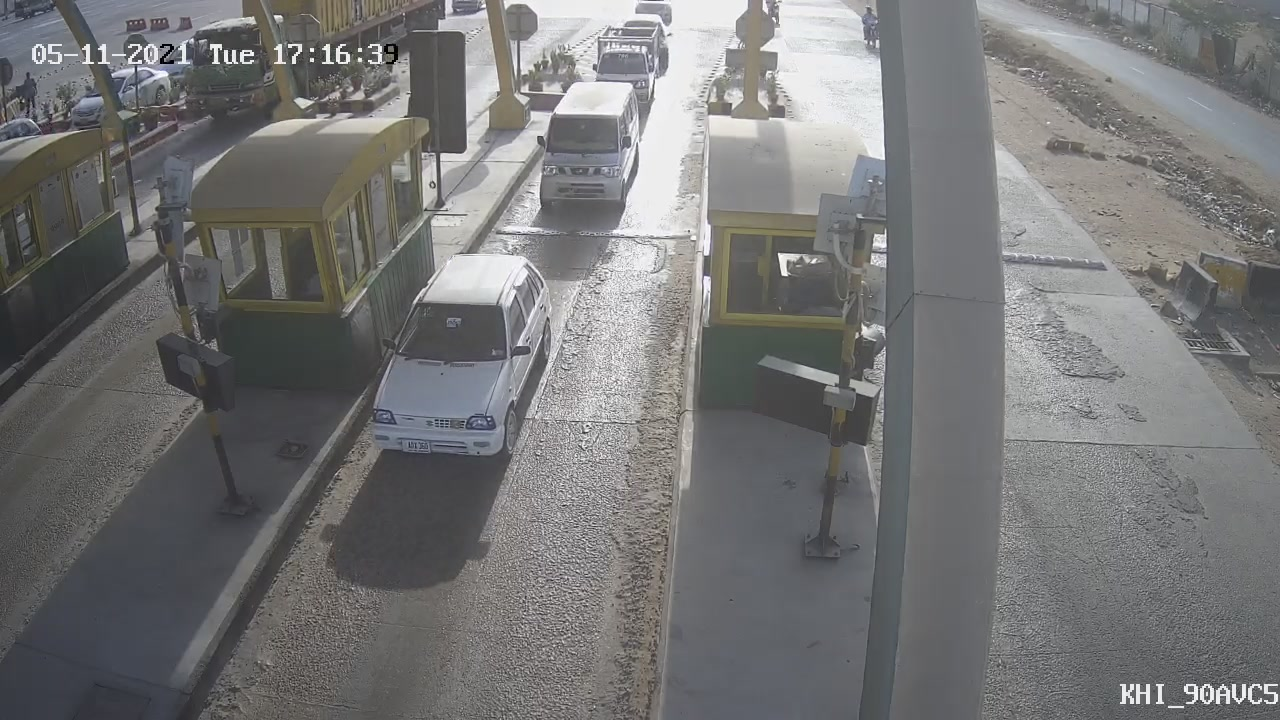F1: (342, 230, 573, 479), (513, 69, 659, 233)
